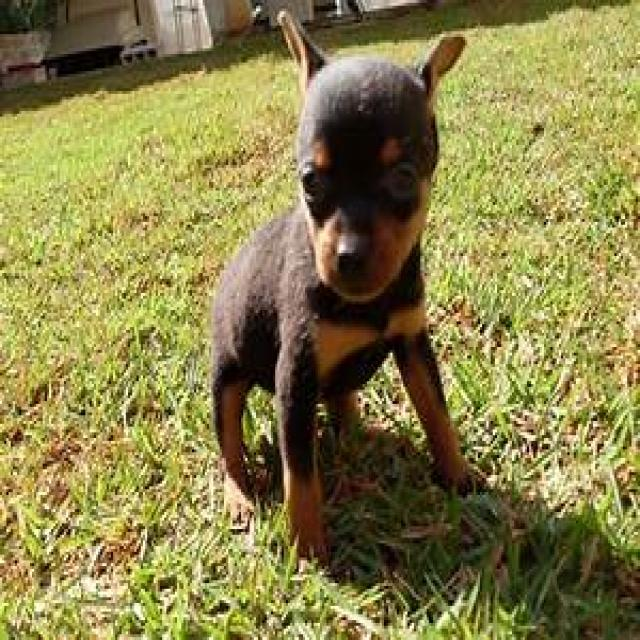dog: (211, 34, 489, 563)
